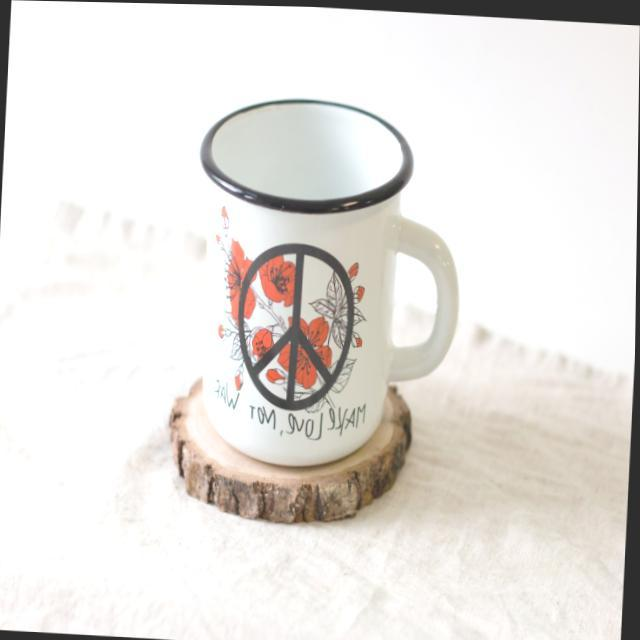cup: (182, 89, 470, 478)
